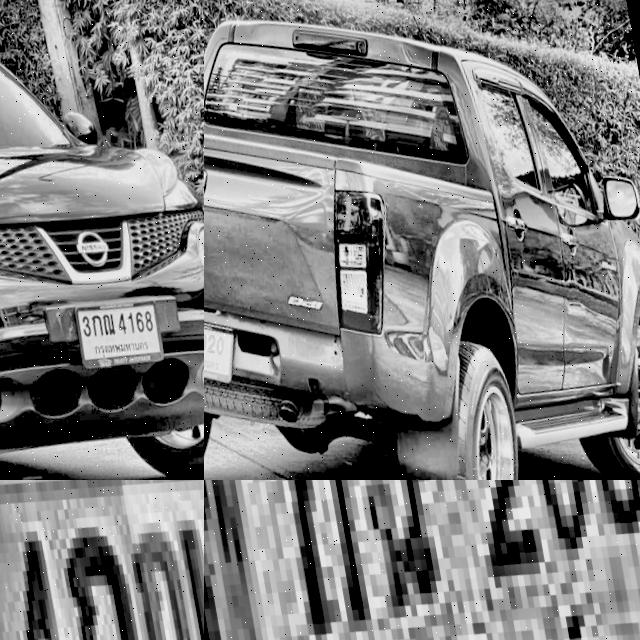license-plate: (204, 480, 640, 640), (0, 480, 204, 640), (68, 275, 169, 368), (204, 289, 242, 394)
